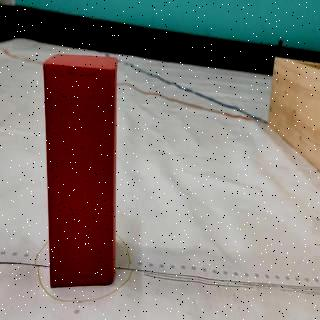redbox: (42, 52, 118, 288)
